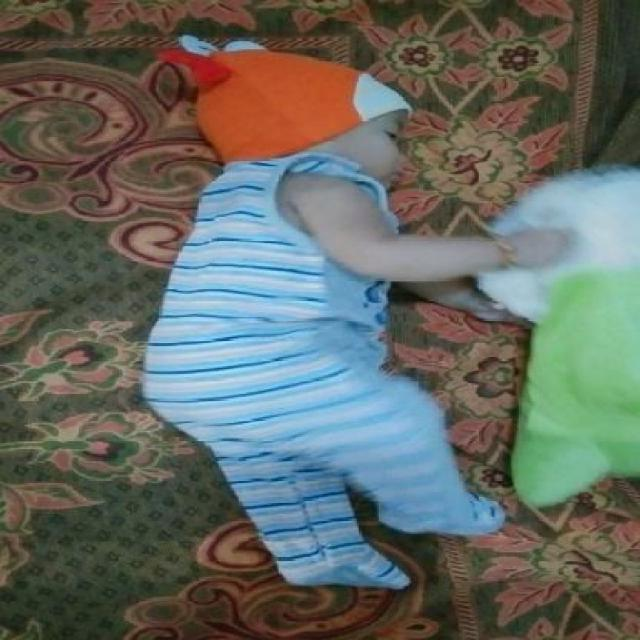child: (143, 32, 571, 580)
